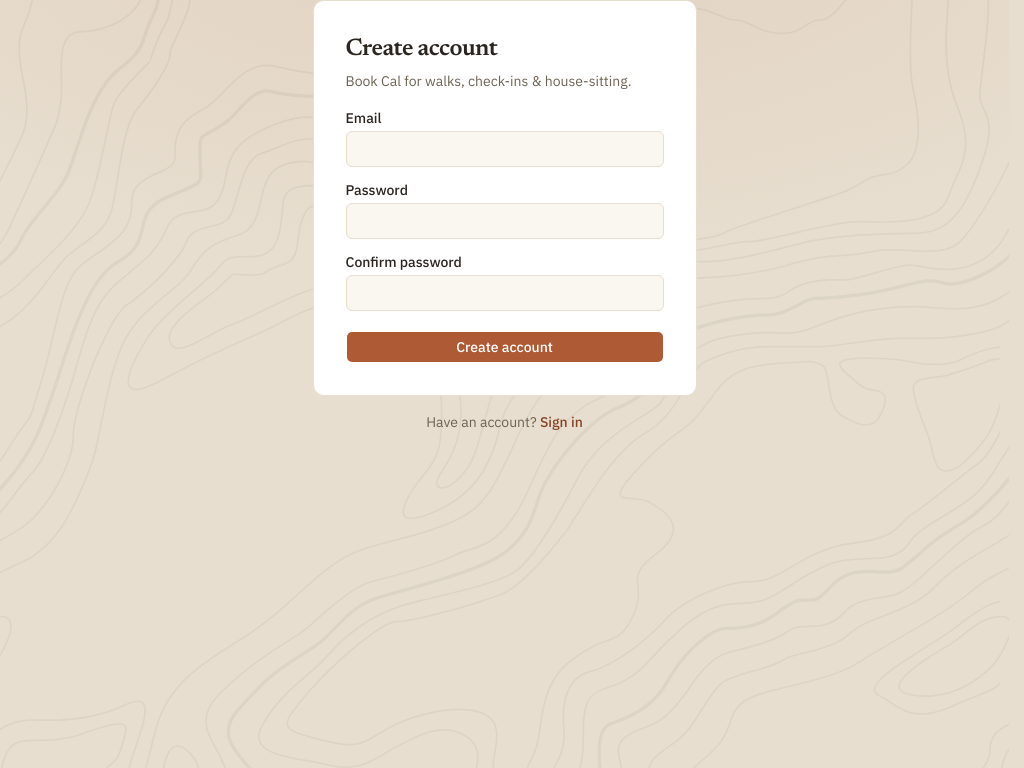
Test: SignupCard › never renders Supabase's own message
Type "kiche@example.com" into the field labelled "Email".
click(504, 149); type("kiche@example.com")  # box x1=346 y1=131 x2=664 y2=167
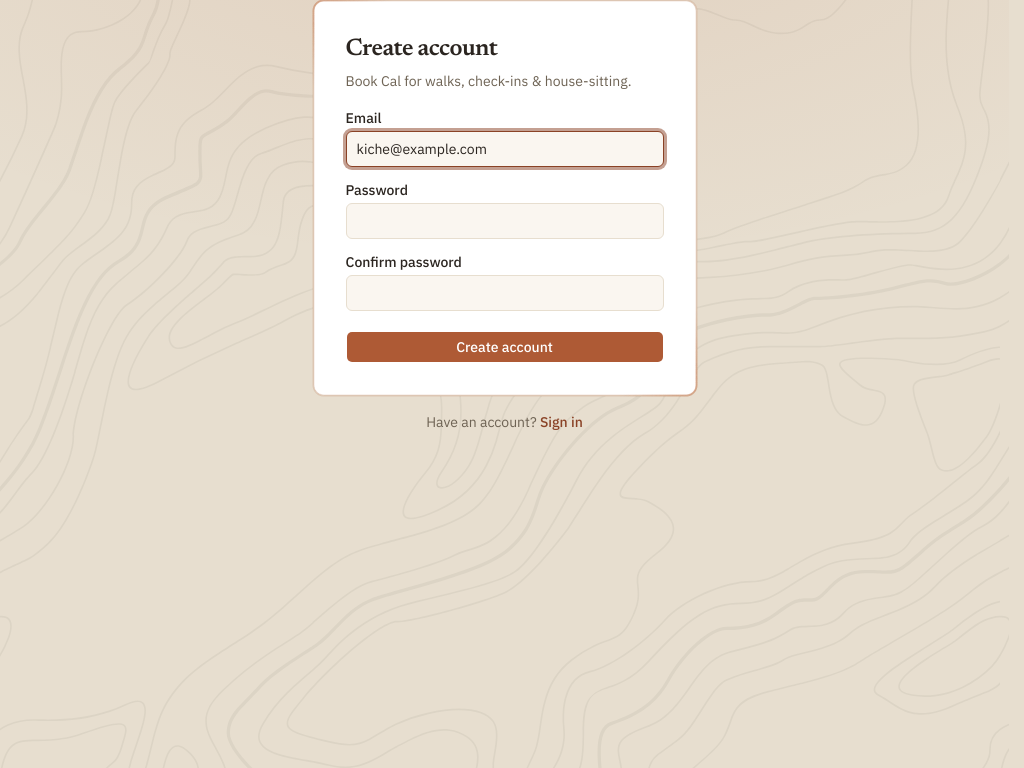
Type "password1" into the password field labelled "Password".
click(504, 221); type("password1")  # box x1=346 y1=203 x2=664 y2=239
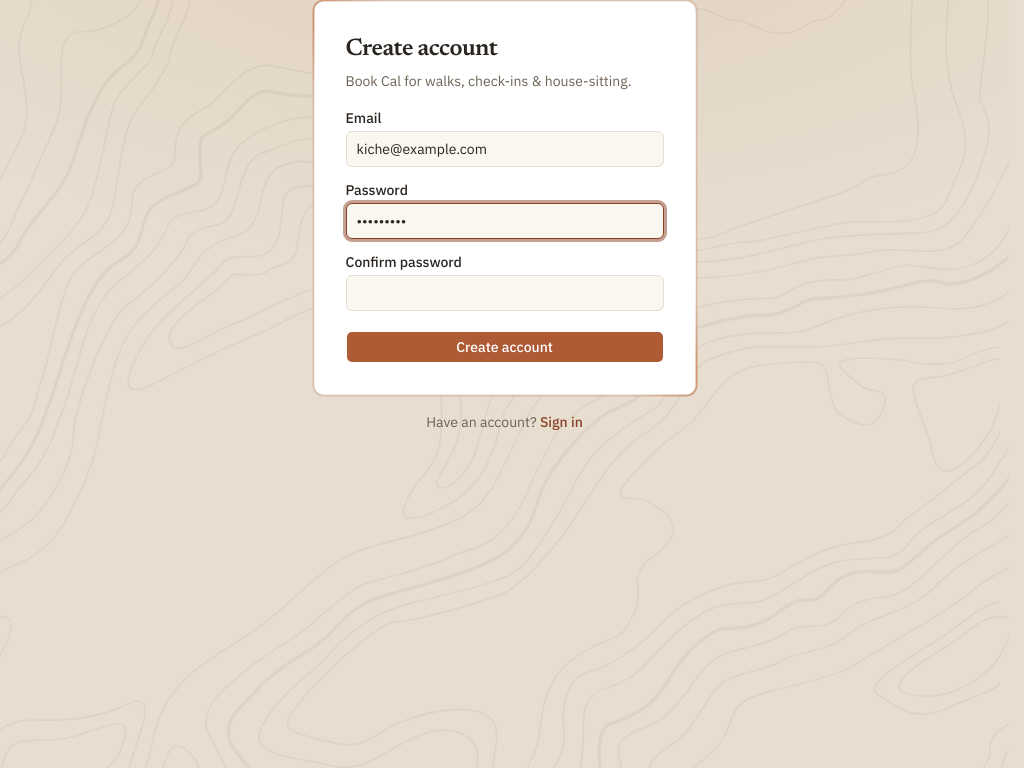
Type "password1" into the password field labelled "Confirm password".
click(504, 293); type("password1")  # box x1=346 y1=275 x2=664 y2=311
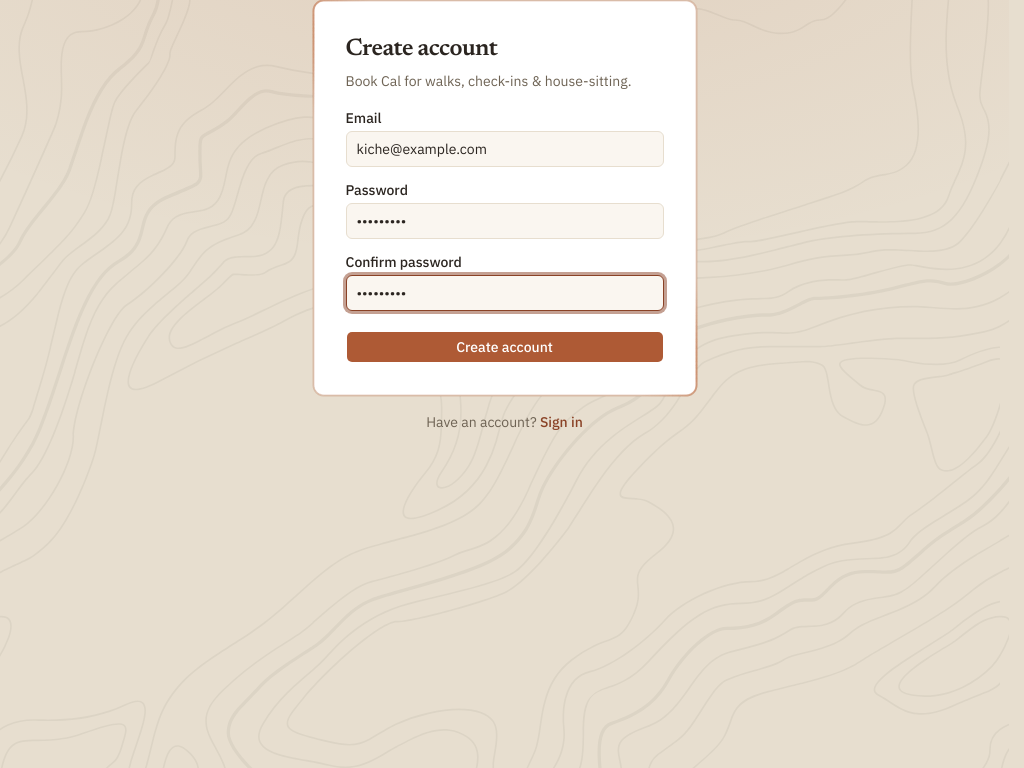
Click the button "Create account".
click(504, 347)  # box x1=346 y1=331 x2=664 y2=363
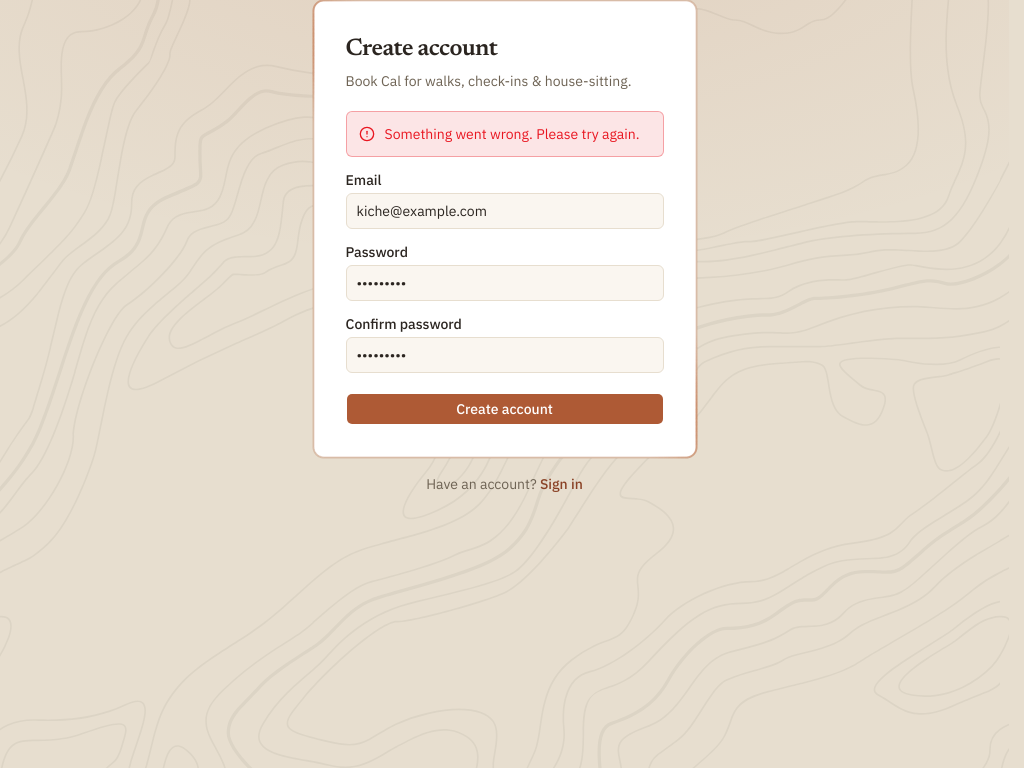
Result: the text "Something went wrong. Please try again." is shown at x1=384 y1=124 x2=640 y2=144
